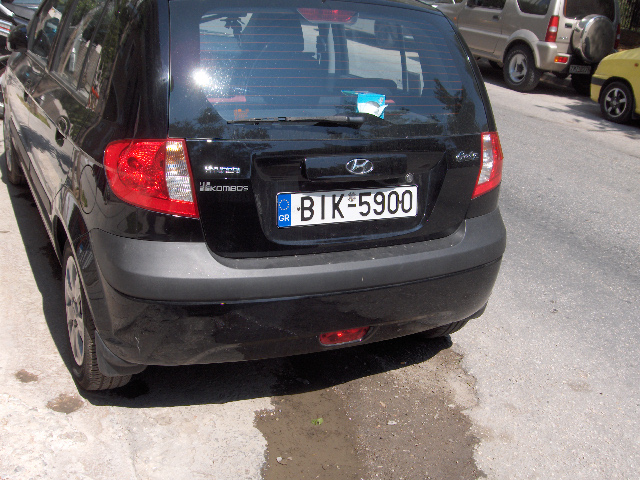licenseplate: (274, 182, 420, 232)
